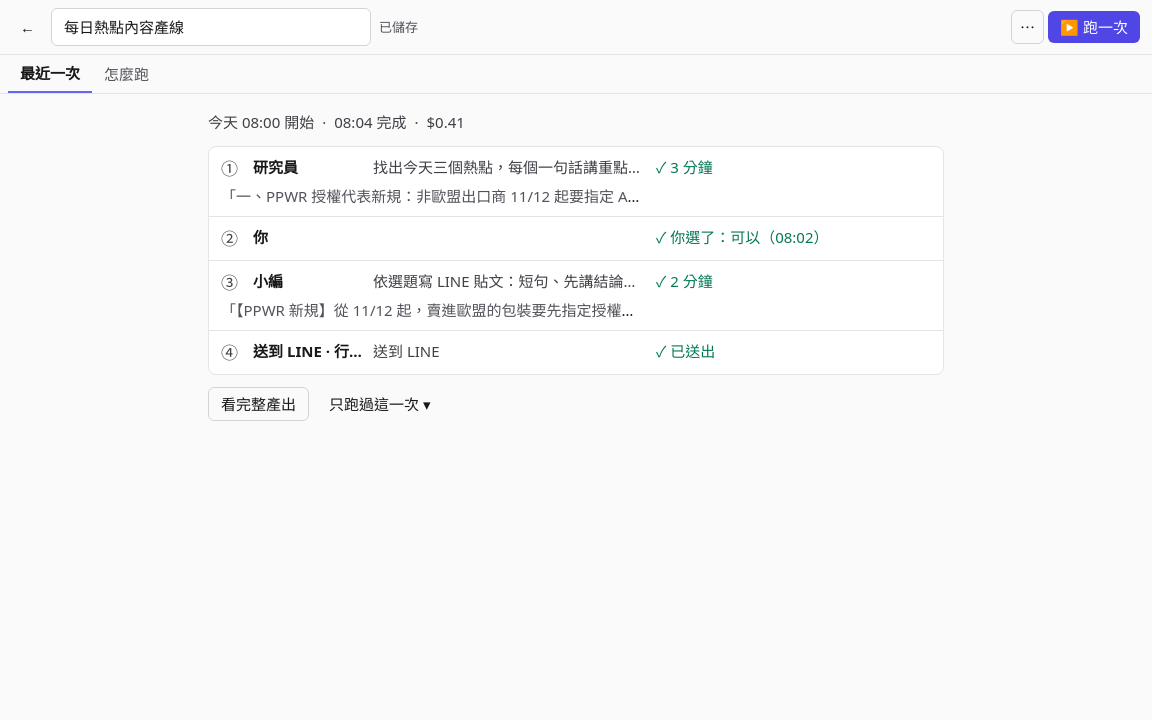
it: 最近一次 › 頭一行：今天 08:00 開始 · 08:04 完成 · $0.41；一步一行：誰、做什麼、花多久、產出第一行、你選了、已送出
This screenshot has width=1152, height=720.
Expected: the element with test id "last-run-header" shows "今天 08:00 開始", x1=208 y1=112 x2=465 y2=132
Expected: the element with test id "last-run-header" shows "08:04 完成", x1=208 y1=112 x2=465 y2=132
# 看完整產出：把右欄的內容攤在底下
Click the button with test id "last-run-full-output".
click(258, 404)  # box x1=208 y1=387 x2=309 y2=421
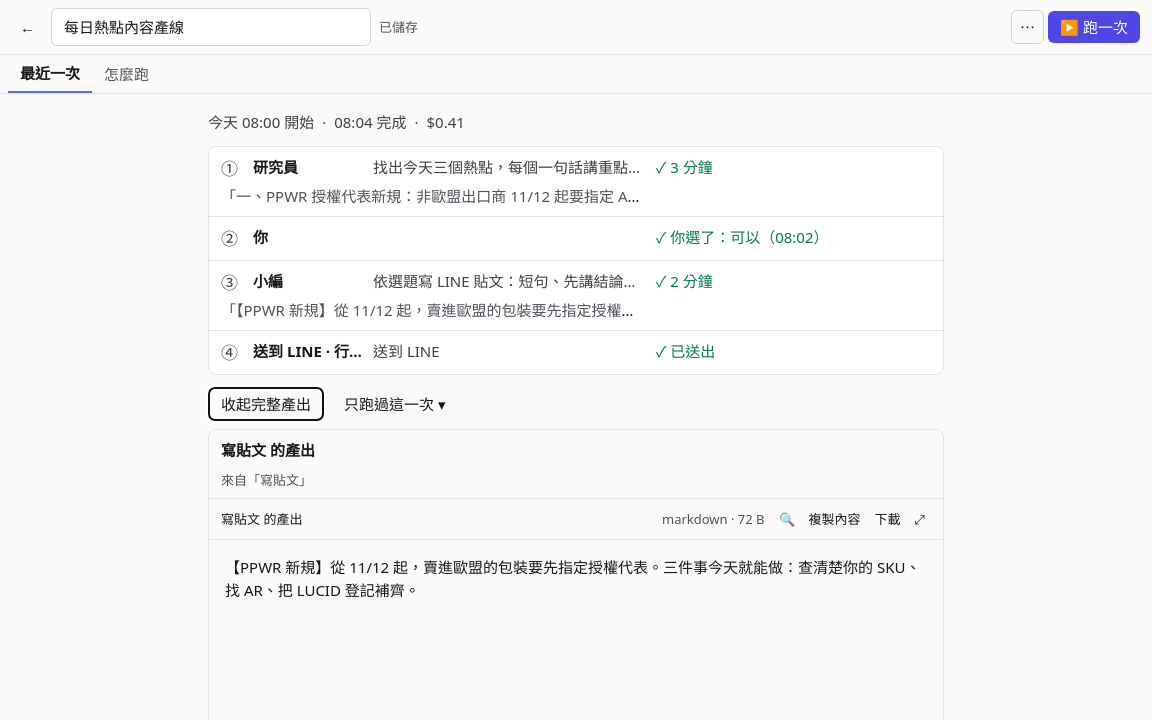
Expected: the button with test id "last-run-history-toggle" shows "只跑過這一次", x1=332 y1=388 x2=458 y2=420
Expected: the element with test id "last-run-output" is shown, x1=208 y1=429 x2=944 y2=719
